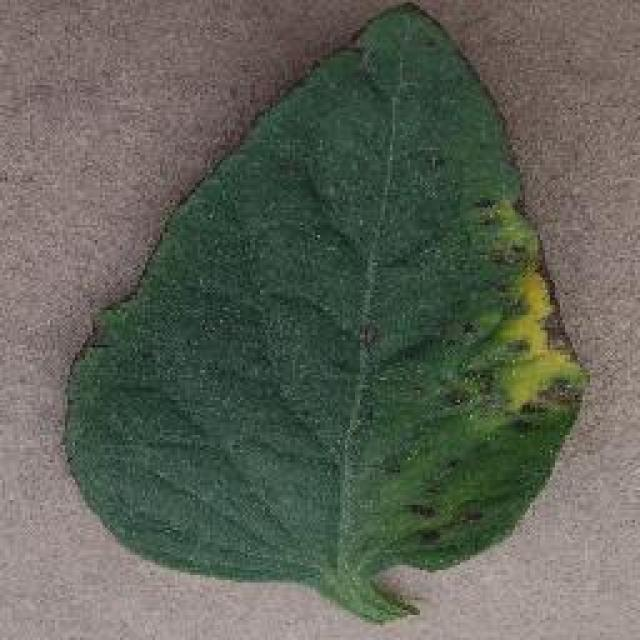Tomato___Bacterial_spot: (51, 3, 593, 627)
